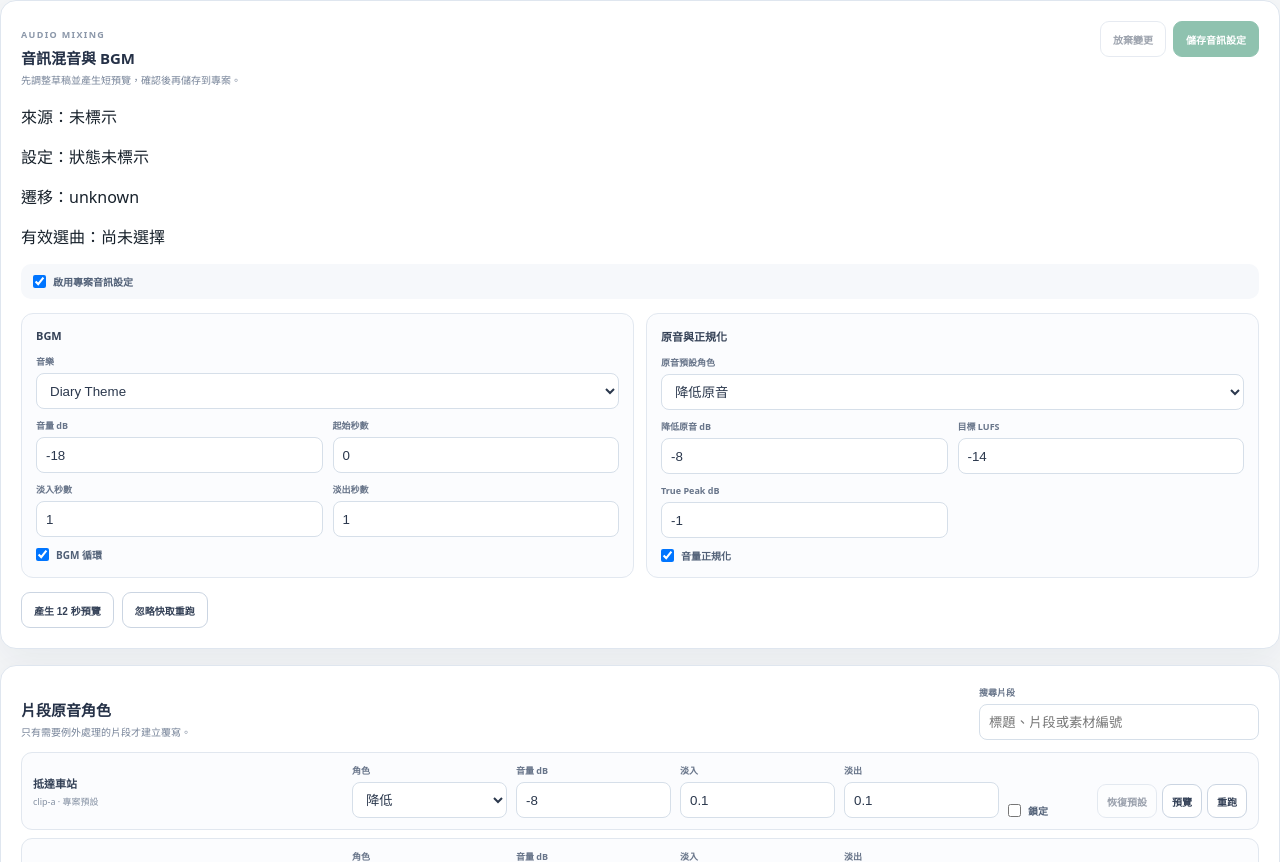
AudioMixingWorkspace › saves the full draft, refreshes the project, and clears dirty state
Replace the text in the number field labelled "音量 dB" below "起始秒數" with "-12" at (179, 455), box [36, 437, 322, 473]
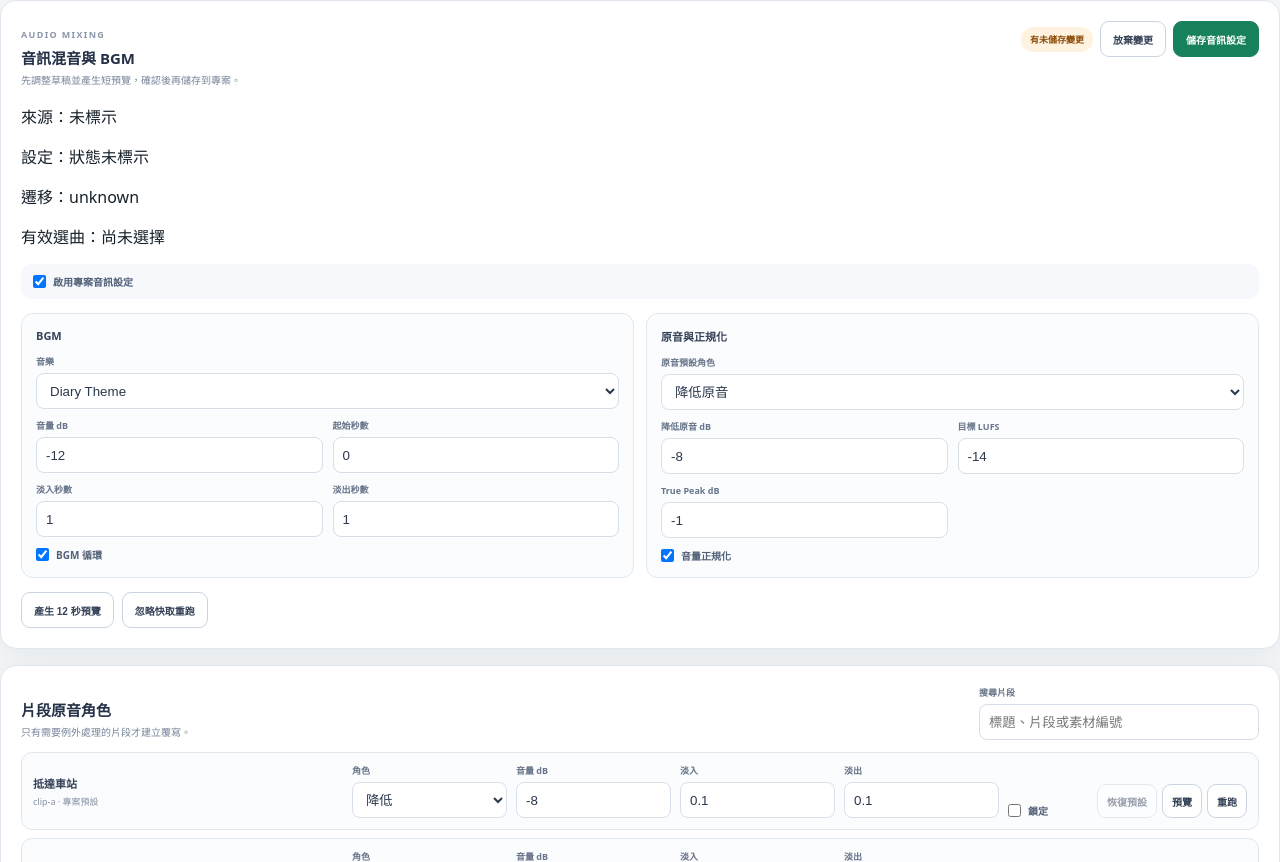
Click the button "儲存音訊設定" at (1216, 39), box [1173, 21, 1259, 57]
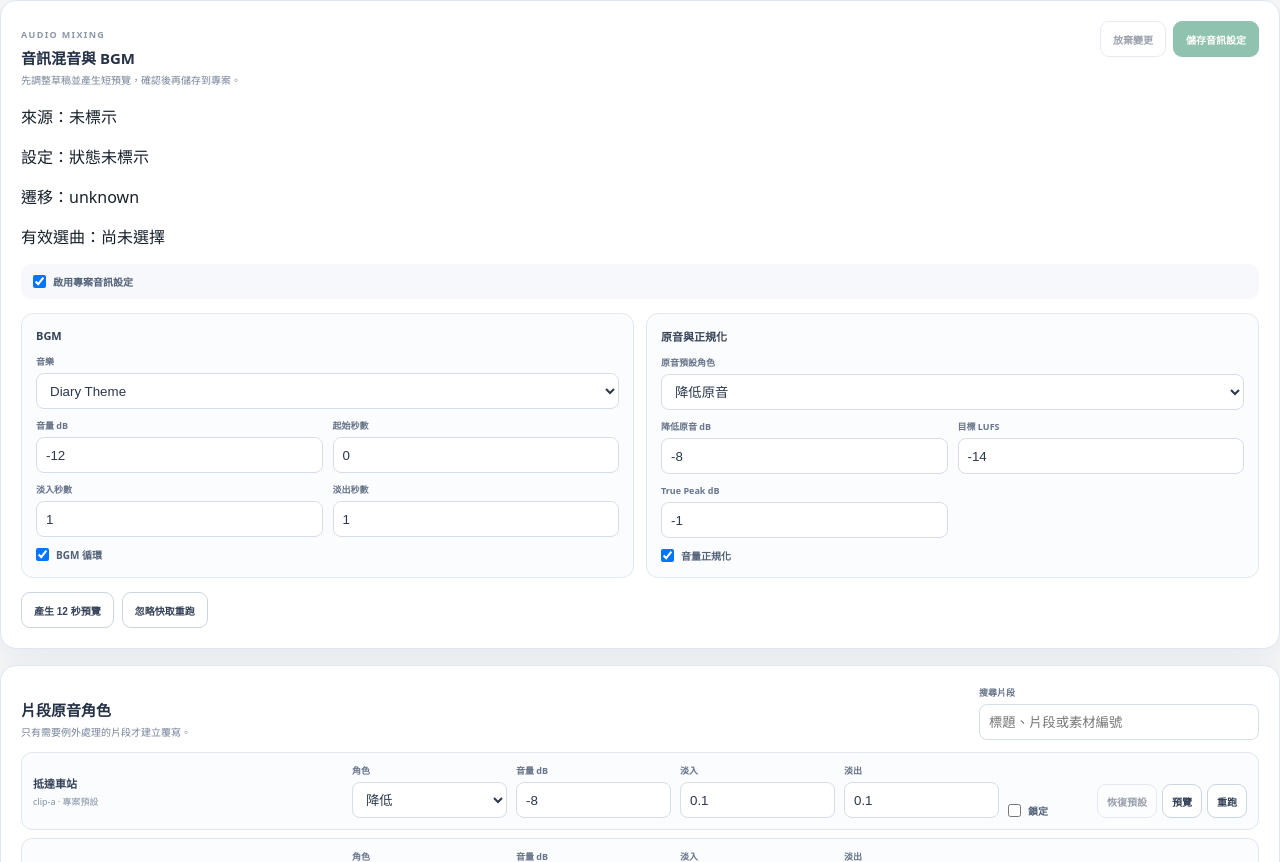
expect the text "有未儲存變更" is gone: met
